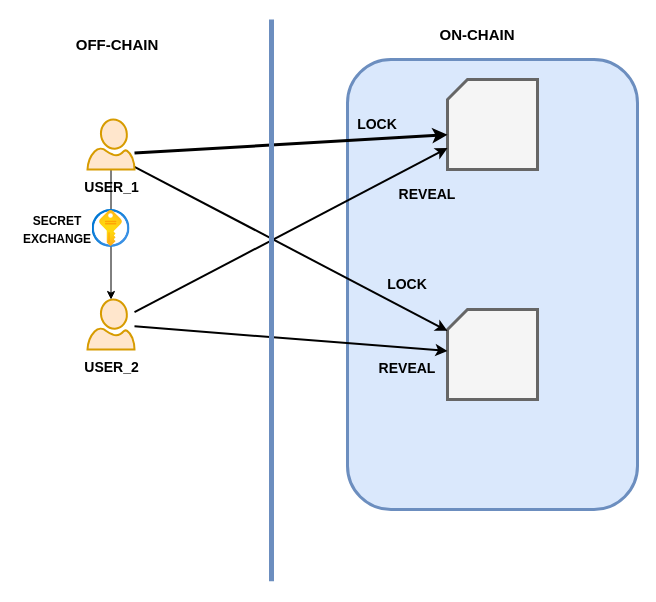
Image size: 656x602. Some labels were removed from this diagram. The box of each missing label's shape, as (x1, y1, x2, y2) in pixels:
Tx1_Payment: (446, 78, 538, 170)
Tx2_Payment: (446, 308, 538, 400)
